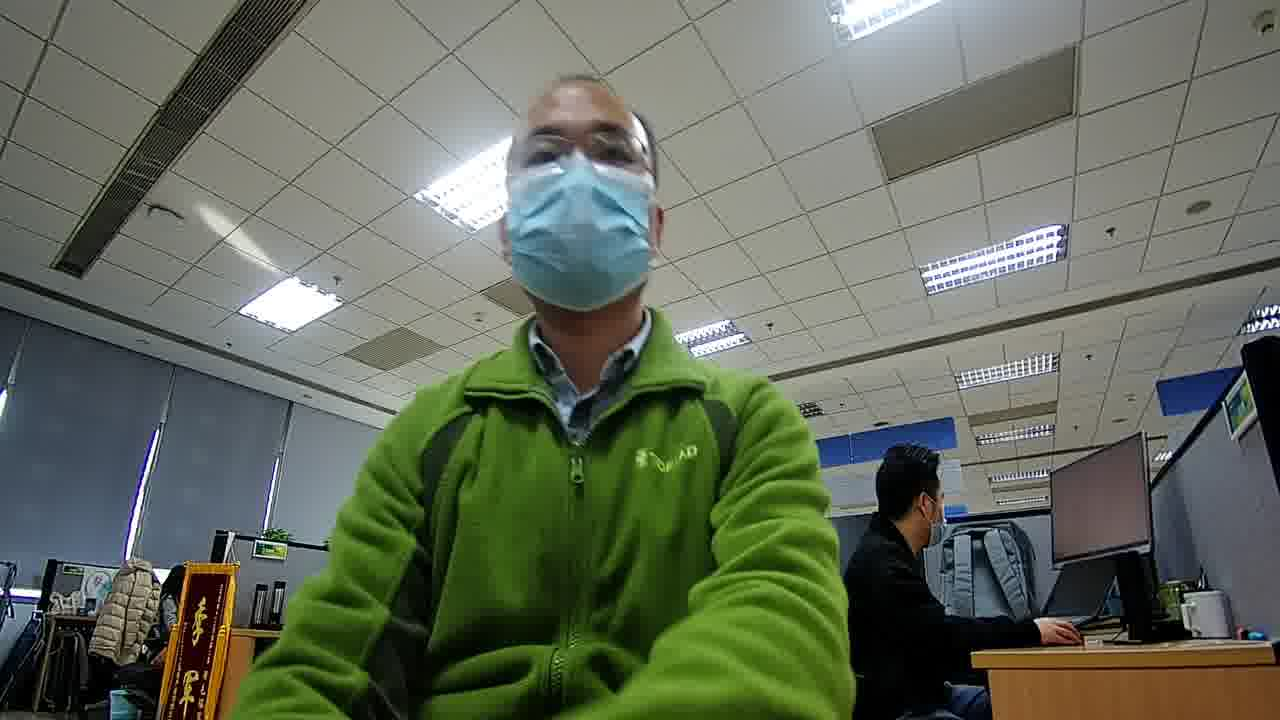face: (505, 92, 653, 309)
mask: (501, 156, 653, 310)
person: (371, 68, 795, 445), (846, 437, 955, 602), (153, 560, 187, 610)
